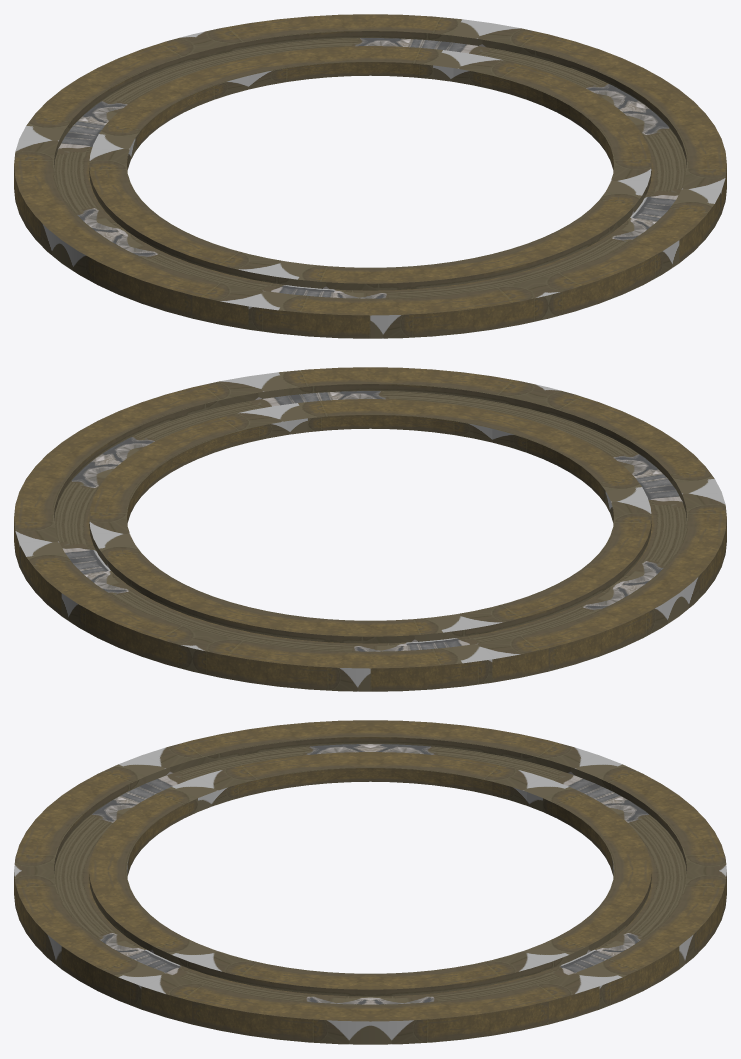
The model's file is Ground_Altar.fbx.
3 renders of one model, top to bottom at view 1: azimuth 30°, elevation 25°; view 2: azimuth 150°, elevation 25°; view 3: azimuth 270°, elevation 25°, orthographic.
Visible parts, largest first — view 1: Cylinder009; view 2: Cylinder009; view 3: Cylinder009.
Boxes of the visible parts, x1,y1,x2,y2 form: Cylinder009: (14, 14, 726, 338); Cylinder009: (14, 367, 726, 691); Cylinder009: (14, 720, 726, 1044).
Size of the model in its own units: 1766 by 63.69 by 1766.
